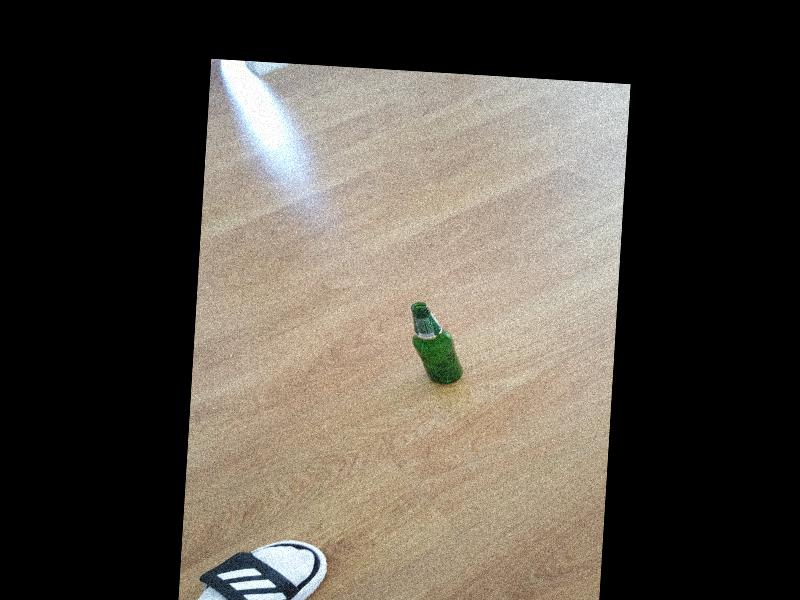Beer: (406, 303, 464, 384)
